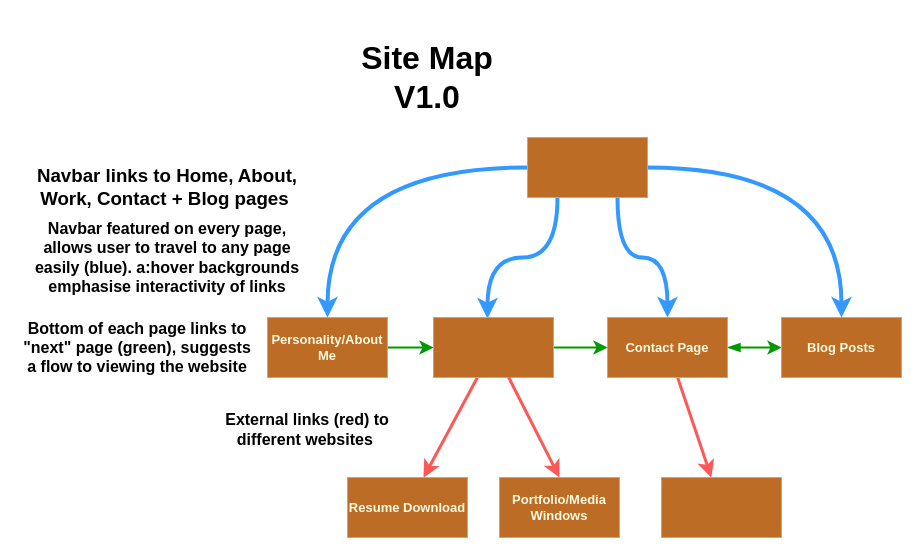
The diagram is 919 pixels wide and 555 high, and some of its shapes have lost their labels. The centre of each missing label's shape, as x and y in pixels:
"Home" belongs at point (587, 167).
"Links to Github + LinkedIn" belongs at point (721, 507).
"Work History" belongs at point (493, 347).
